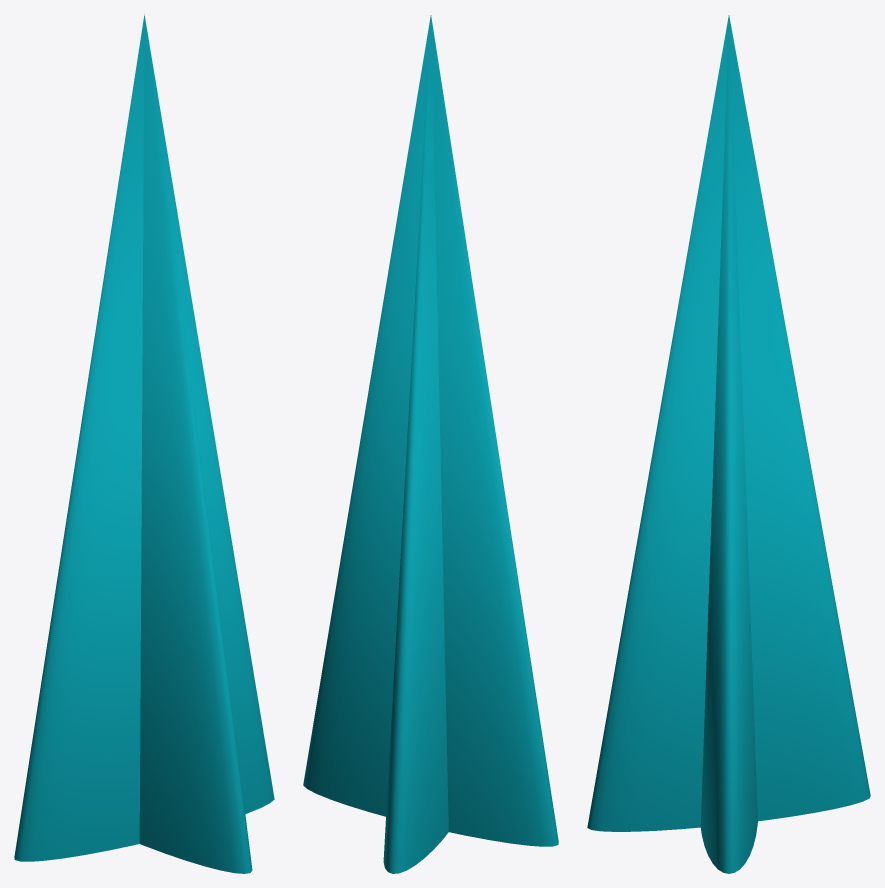
Rendered from BuildingTW_01_F_04.fbx.
The picture shows the model from 3 angles, left to right: view 1: azimuth 30°, elevation 25°; view 2: azimuth 150°, elevation 25°; view 3: azimuth 270°, elevation 25°; orthographic projection. The views are drawn at different scales.
Parts seen in each view (by area): view 1: TopPillar; view 2: TopPillar; view 3: TopPillar.
Part boxes in pixels (box(x1,y1,x2,y2)): TopPillar: box(14, 14, 274, 873); TopPillar: box(303, 15, 558, 873); TopPillar: box(587, 15, 870, 873).
Bounding box in the file's own units: 10 × 30 × 9.66.
